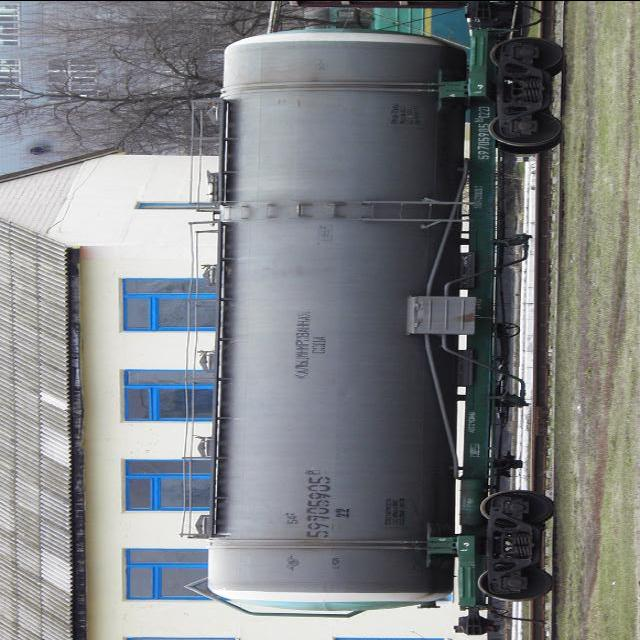wagon: (300, 474, 334, 540), (470, 122, 493, 160)
